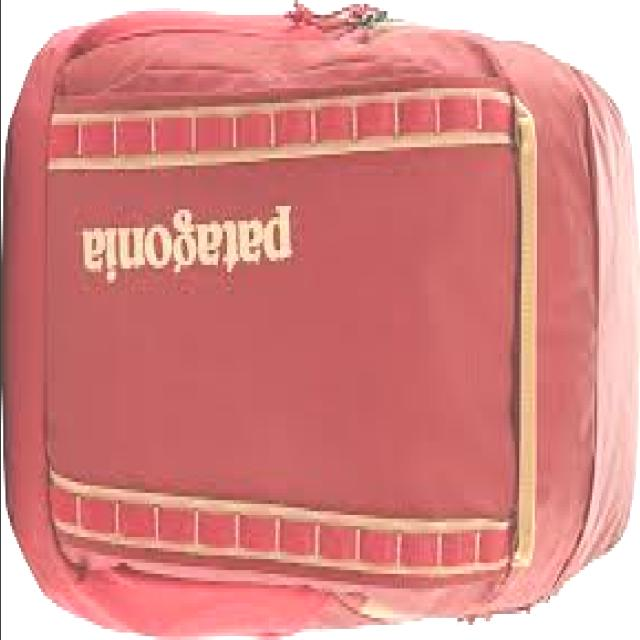backpack: (3, 1, 640, 637)
